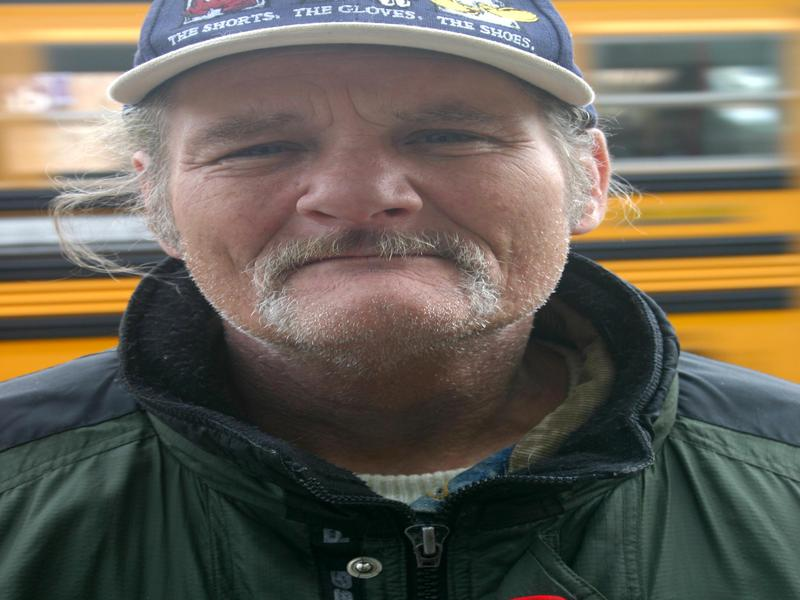person: (4, 1, 797, 600)
